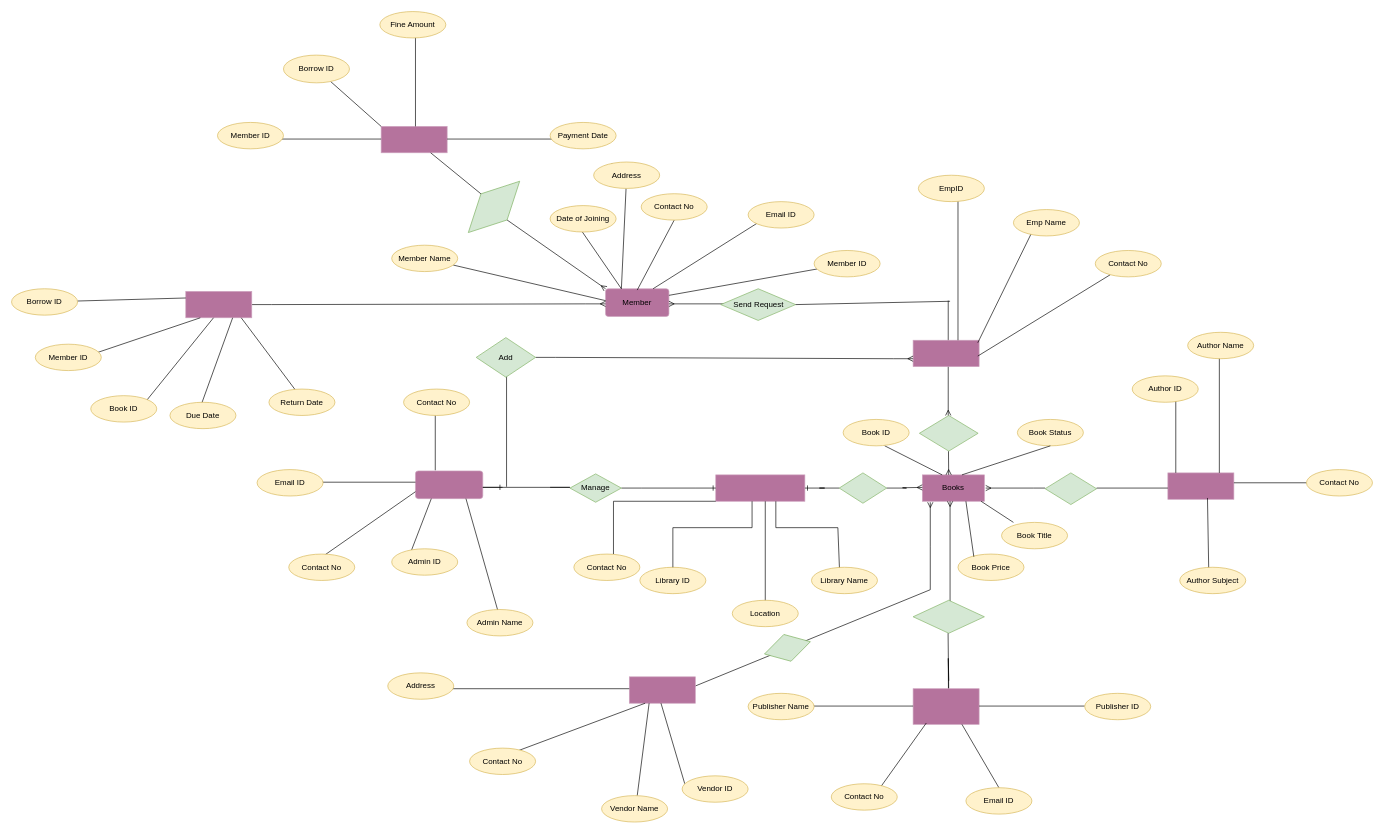
This 1384x834 diagram has some shape labels left out. The shapes that lost their labels are listed below. From the top down, each one's centre as x and y in pixels, then its label:
At point 413,139: "Fine".
At point 493,206: "Pay".
At point 218,304: "Borrowing".
At point 945,353: "Empolyee".
At point 948,433: "Issue/ Receive".
At point 449,484: "Admin".
At point 760,487: "Library".
At point 863,487: "has".
At point 1070,488: "Written By".
At point 1200,485: "Author".
At point 948,616: "Publish".
At point 787,647: "Sales".
At point 662,689: "Vendor".
At point 945,706: "Publisher".
